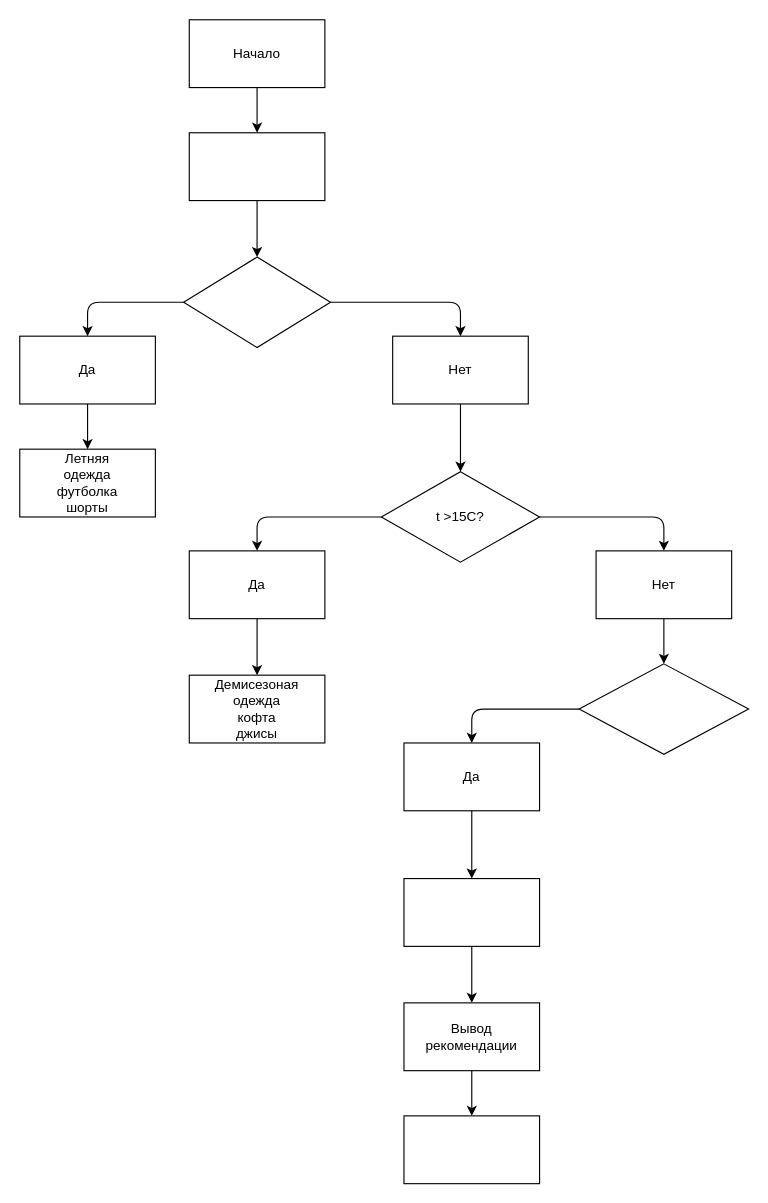
This 768x1203 diagram has some shape labels left out. Here are the shapes that lost their labels. From the top down, the centre of each, then its label:
At [256,166]: "Ввод температуры воздуха".
At [256,301]: "t >25 C?".
At [663,708]: "t > 5 C?".
At [471,911]: "Зимняя одежда куртка шапка".
At [471,1149]: "Конец".
